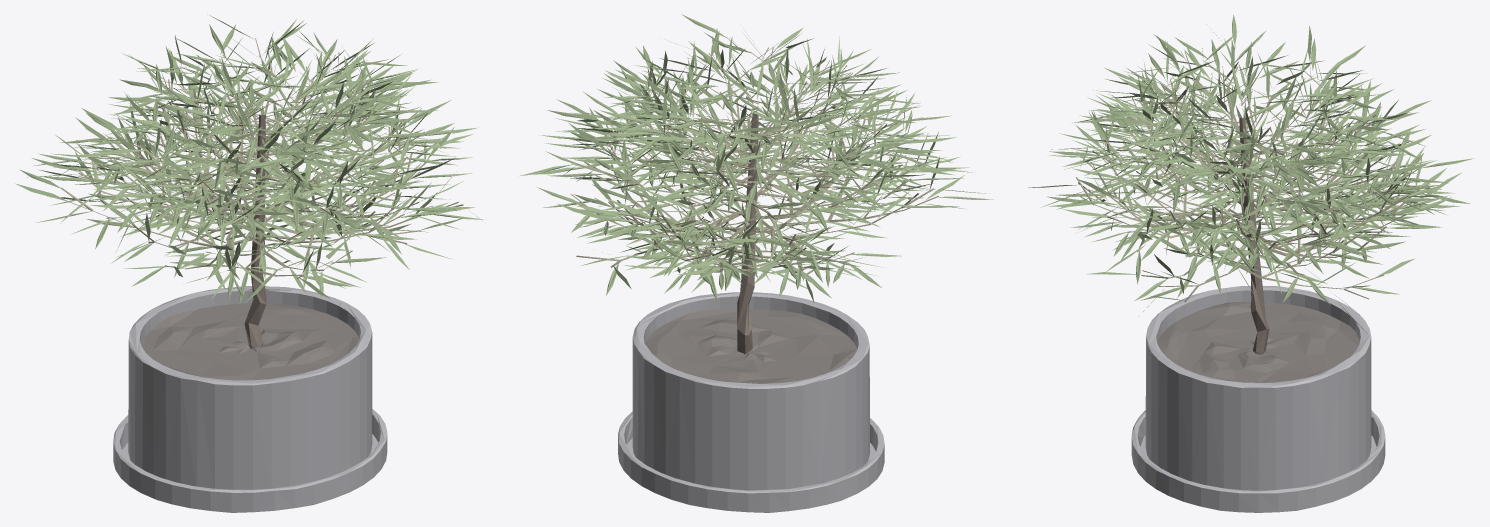
File: sh-bs0-decorative-plant.glb
3 renders of one model, left to right at view 1: azimuth 30°, elevation 25°; view 2: azimuth 150°, elevation 25°; view 3: azimuth 270°, elevation 25°, orthographic. The views are drawn at different scales.
Visible parts, largest first — view 1: leaves, Pot_Untitled.003, tree_Mesh, Ground_Untitled.004; view 2: leaves, Pot_Untitled.003, tree_Mesh, Ground_Untitled.004; view 3: leaves, Pot_Untitled.003, tree_Mesh, Ground_Untitled.004.
Part boxes in pixels (x1,y1,x2,y2): leaves: (15, 14, 486, 304); Pot_Untitled.003: (113, 286, 387, 512); tree_Mesh: (58, 38, 463, 348); Ground_Untitled.004: (141, 303, 359, 380); leaves: (520, 14, 993, 302); Pot_Untitled.003: (618, 292, 884, 512); tree_Mesh: (570, 37, 938, 354); Ground_Untitled.004: (645, 307, 857, 383); leaves: (1028, 15, 1473, 311); Pot_Untitled.003: (1131, 286, 1385, 512); tree_Mesh: (1076, 45, 1426, 354); Ground_Untitled.004: (1157, 301, 1359, 382).
Size of the model in its own units: 1 by 0.9991 by 1.
